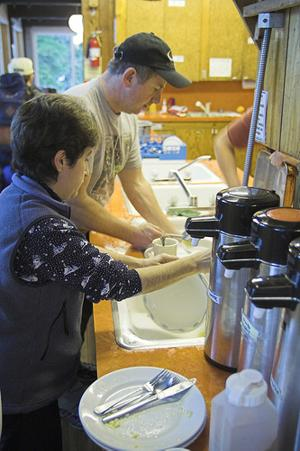person: (60, 27, 186, 251)
